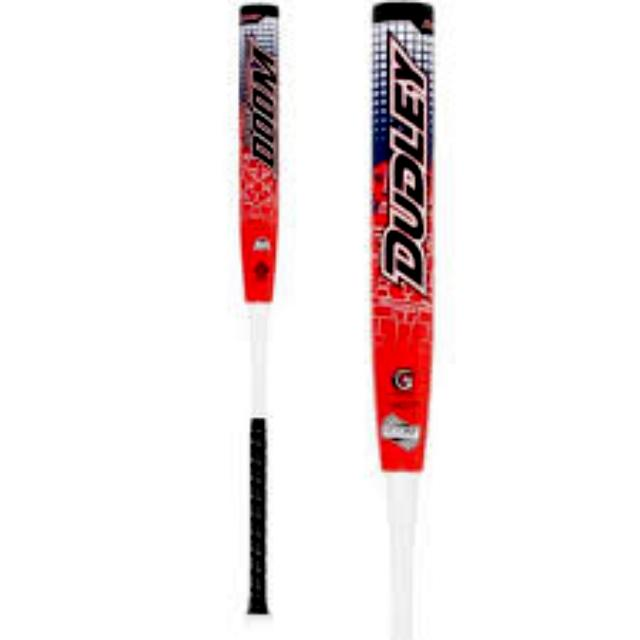baseball bat: (367, 0, 435, 638), (236, 0, 278, 614)
